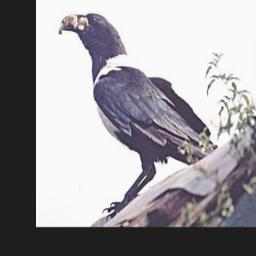Crow: (57, 11, 224, 219)
